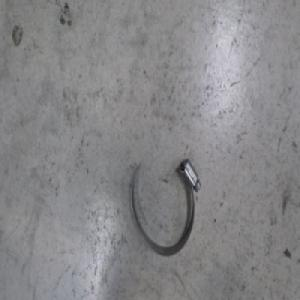AdjustableClamp: (129, 155, 202, 260)
